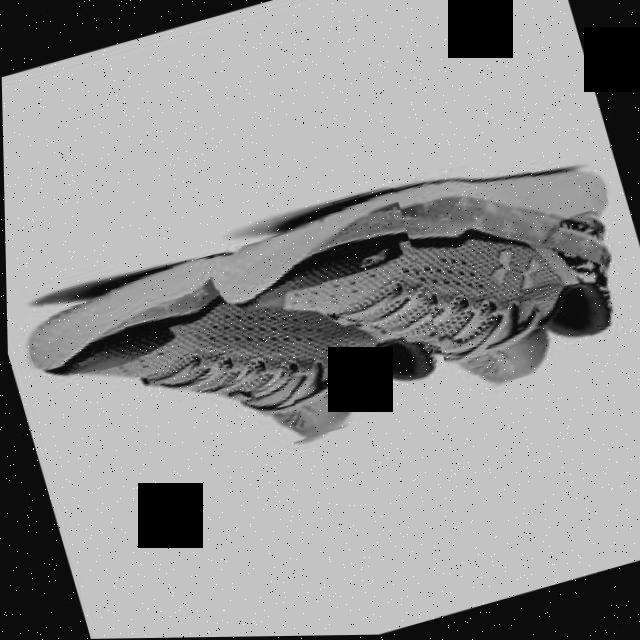shoe: (193, 130, 640, 453), (7, 202, 455, 509)
